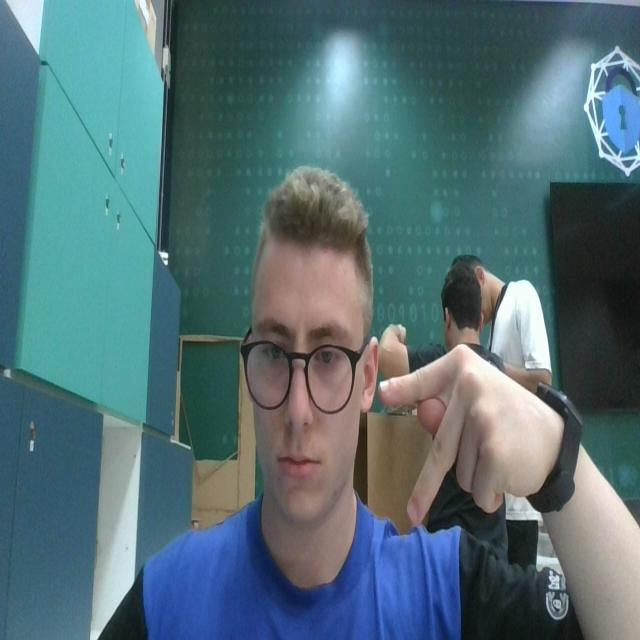P: (372, 350, 550, 530)
